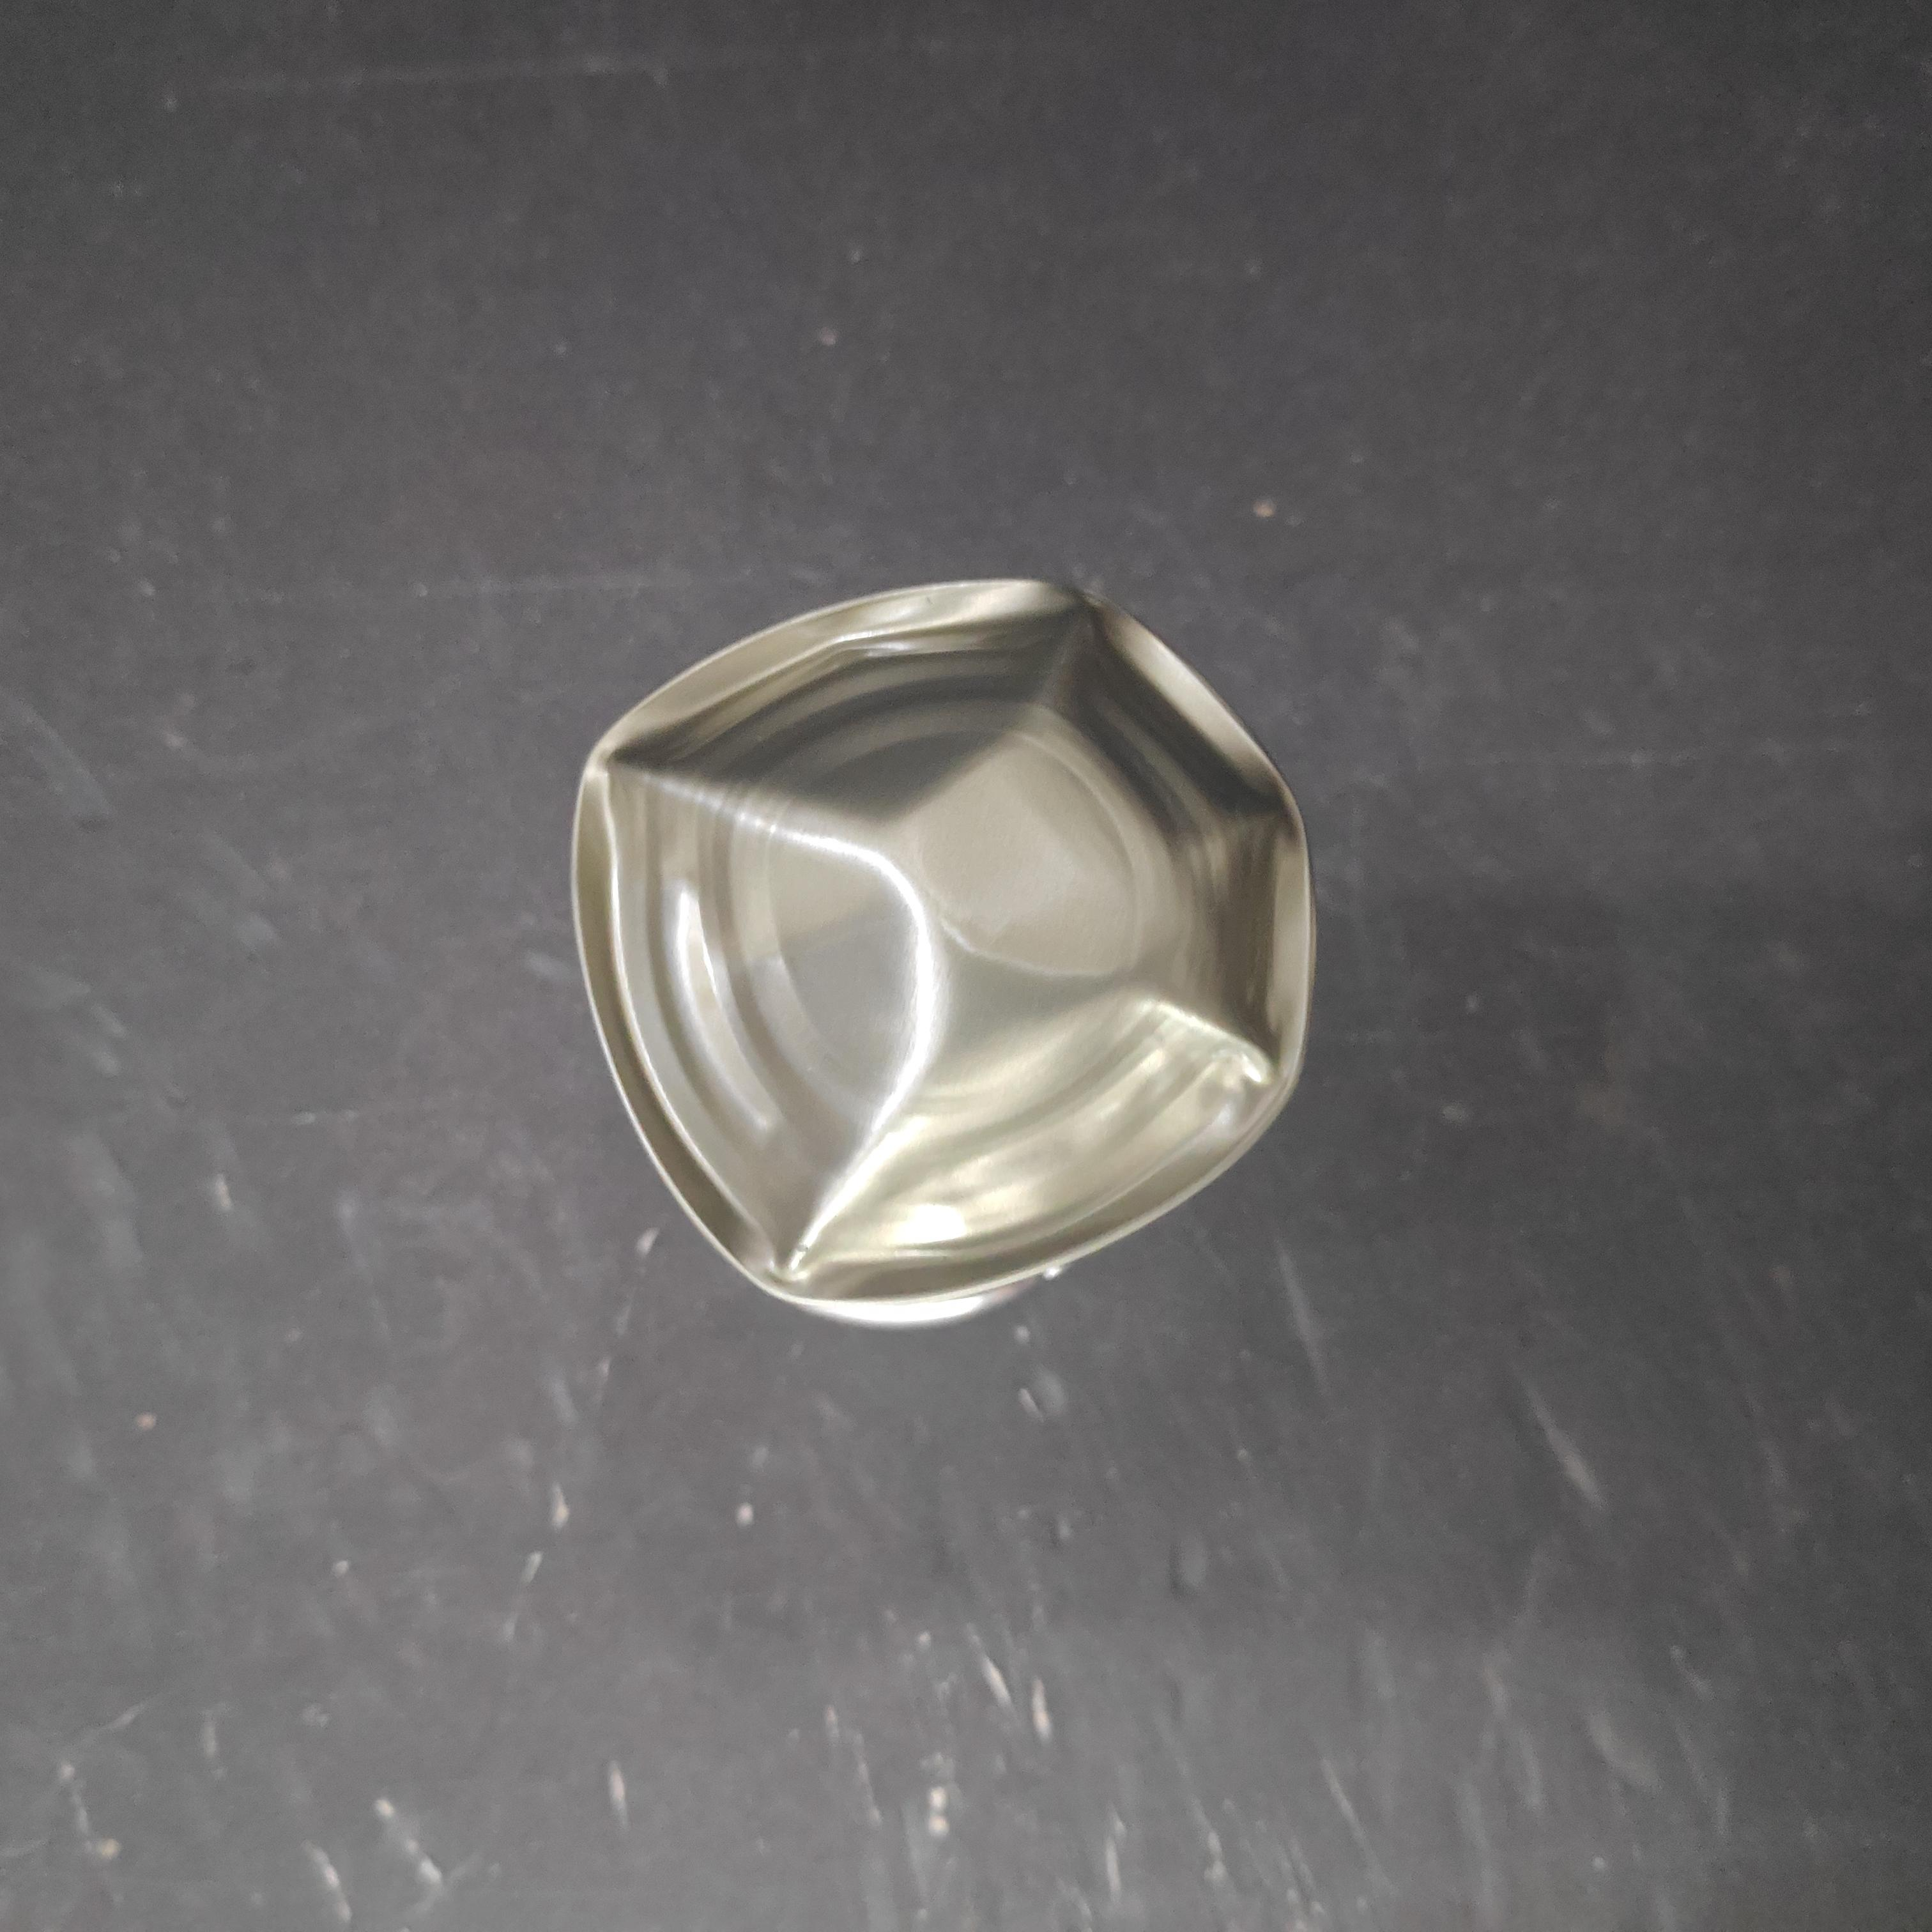Critical Defect: (615, 556, 1363, 1328)
